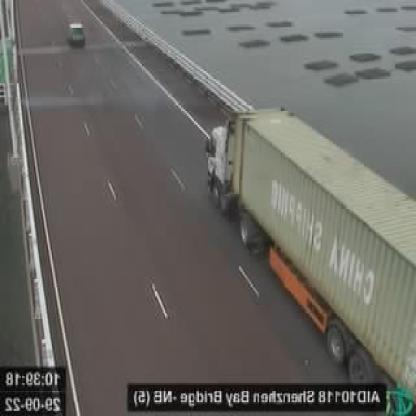Car: (66, 12, 90, 56)
Truck: (203, 92, 416, 395)
